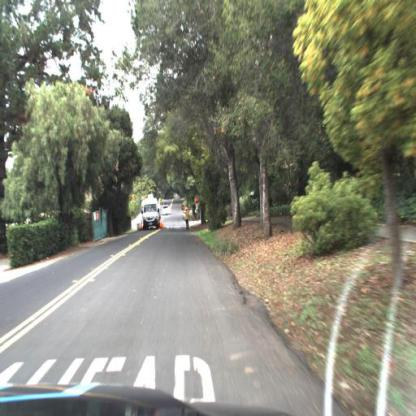car: (141, 197, 162, 233)
pedestrian: (181, 203, 192, 234)
